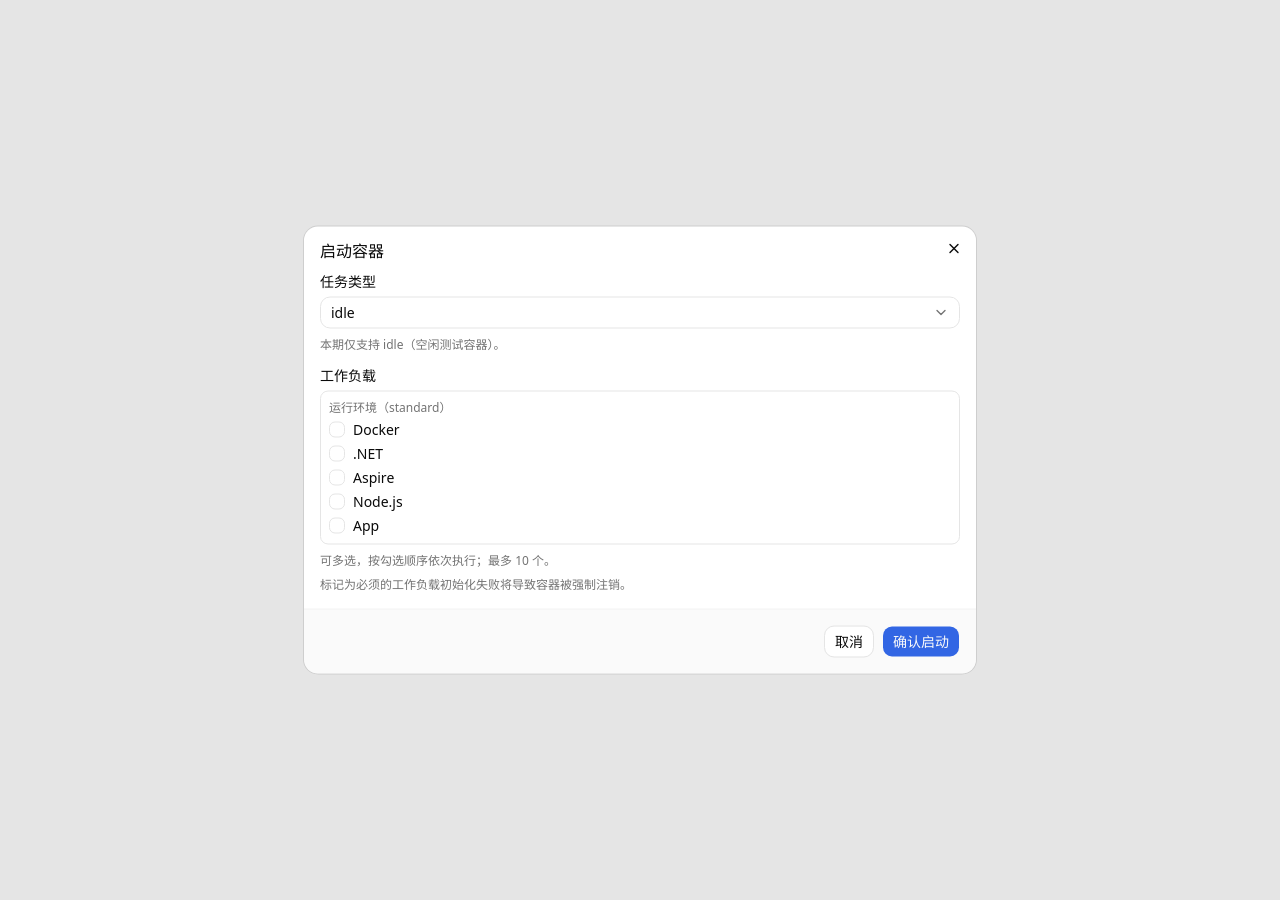
Scenario: StartContainerDialog (T-FP5/T-FP6/T-FP7) › T-FP6: hints implicit dependencies and previews the init order
The image size is (1280, 900).
Click the checkbox named "Aspire" at x=337, y=478, box 329,470 -> 345,486
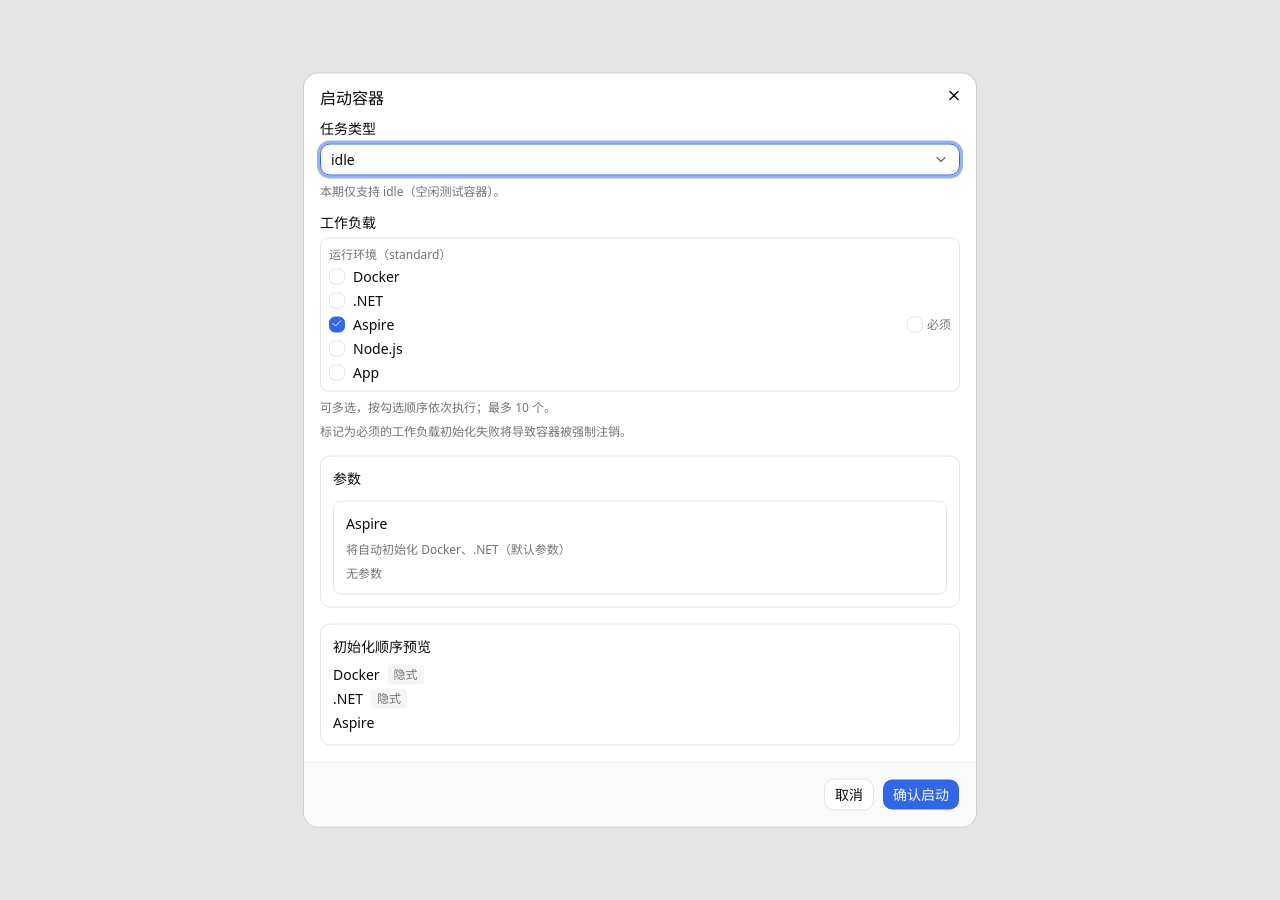
Expected: the text "将自动初始化 Docker、.NET（默认参数）" is shown, 346,540 -> 571,558
Expected: the list items read "Docker隐式", ".NET隐式", "Aspire", in this order, 333,664 -> 424,684; 333,688 -> 407,708; 333,712 -> 374,732
